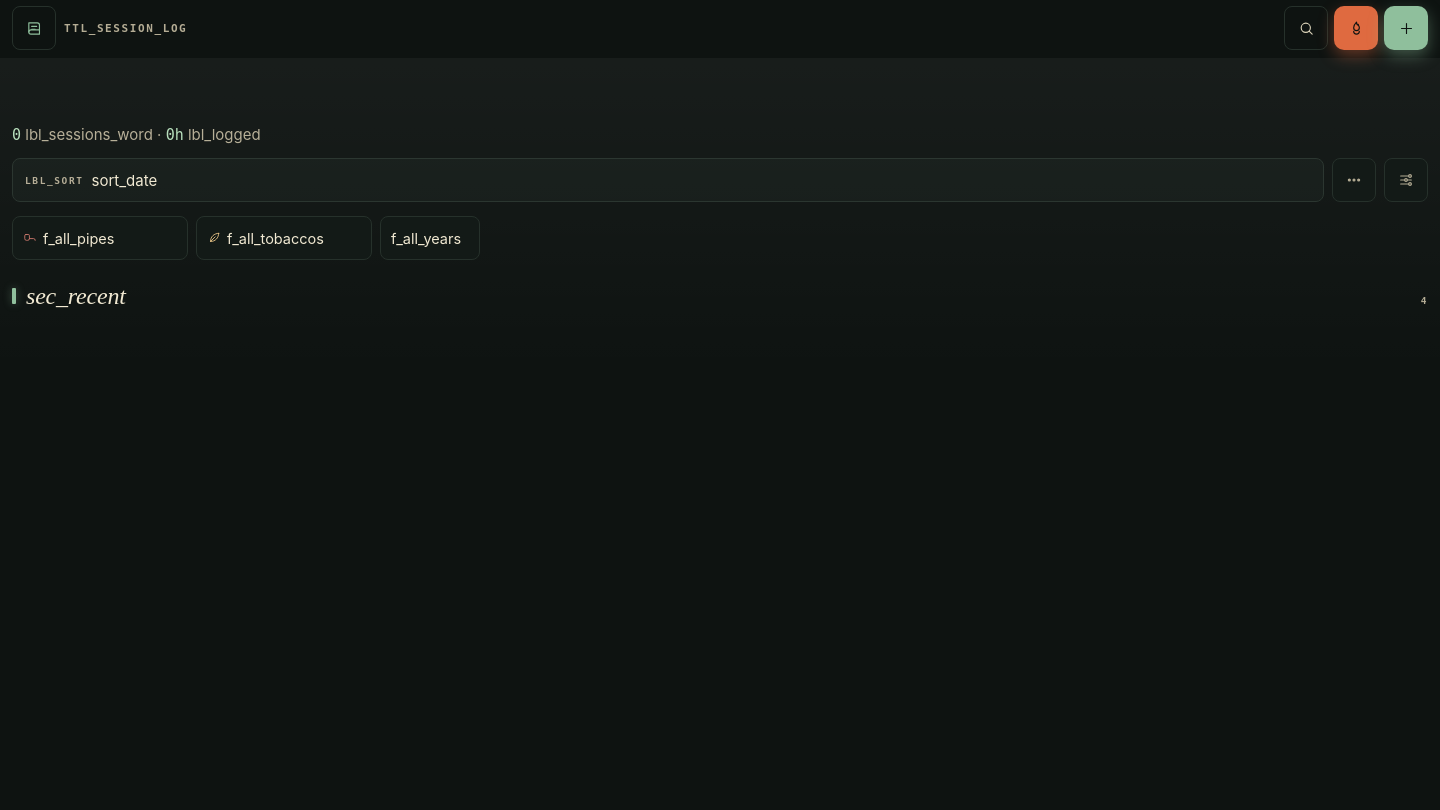
JournalView — pipe / tobacco / year filters › shows the 'no match' empty state with a reset button when filters yield zero sessions
Select "Halvorsen — Sherlock" in the dropdown named "aria_filter_by_pipe". click: (110, 238)
box: [43,217,177,259]
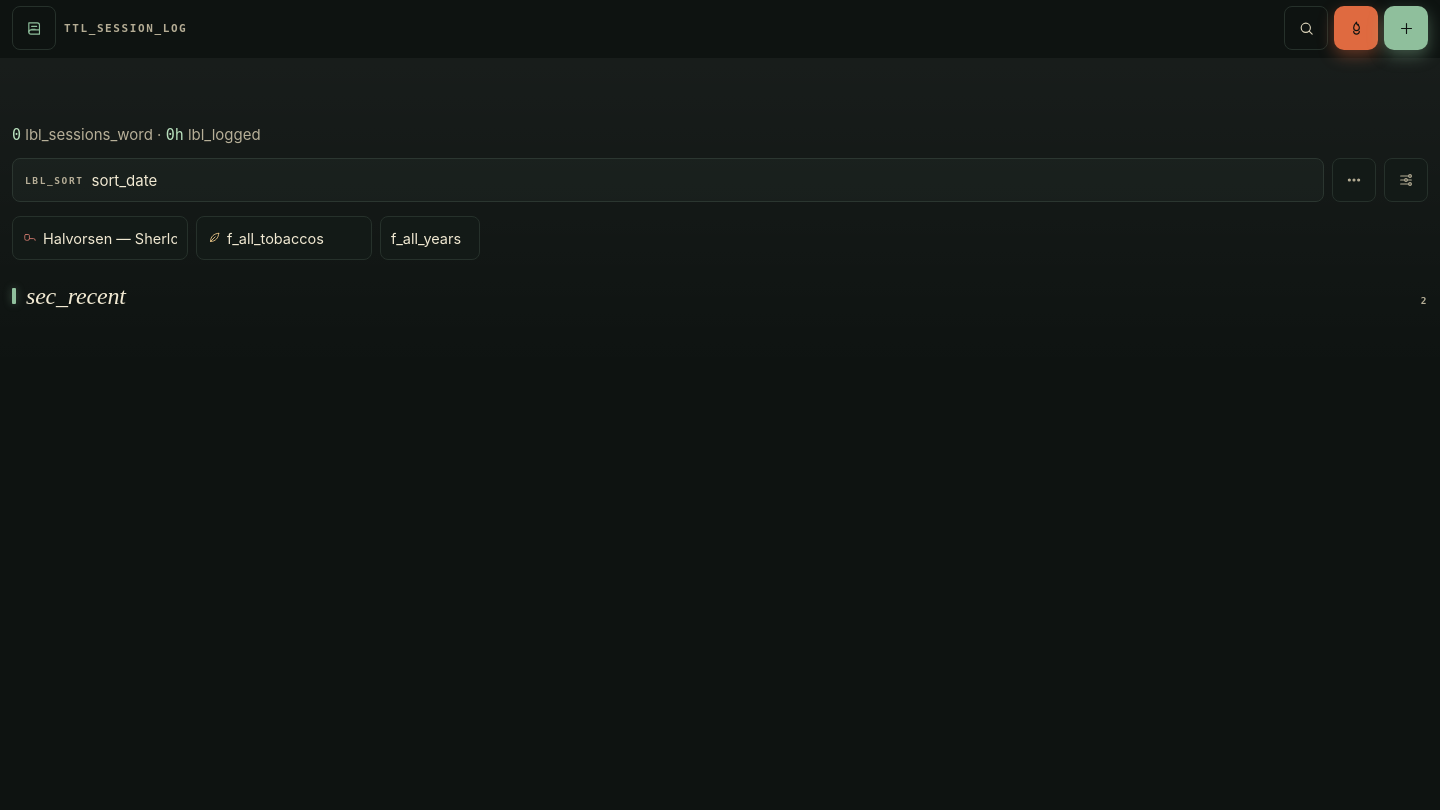
Select "Pellworm — HH Vintage Syrian" in the dropdown named "aria_filter_by_tobacco". click: (294, 238)
box: [227,217,361,259]
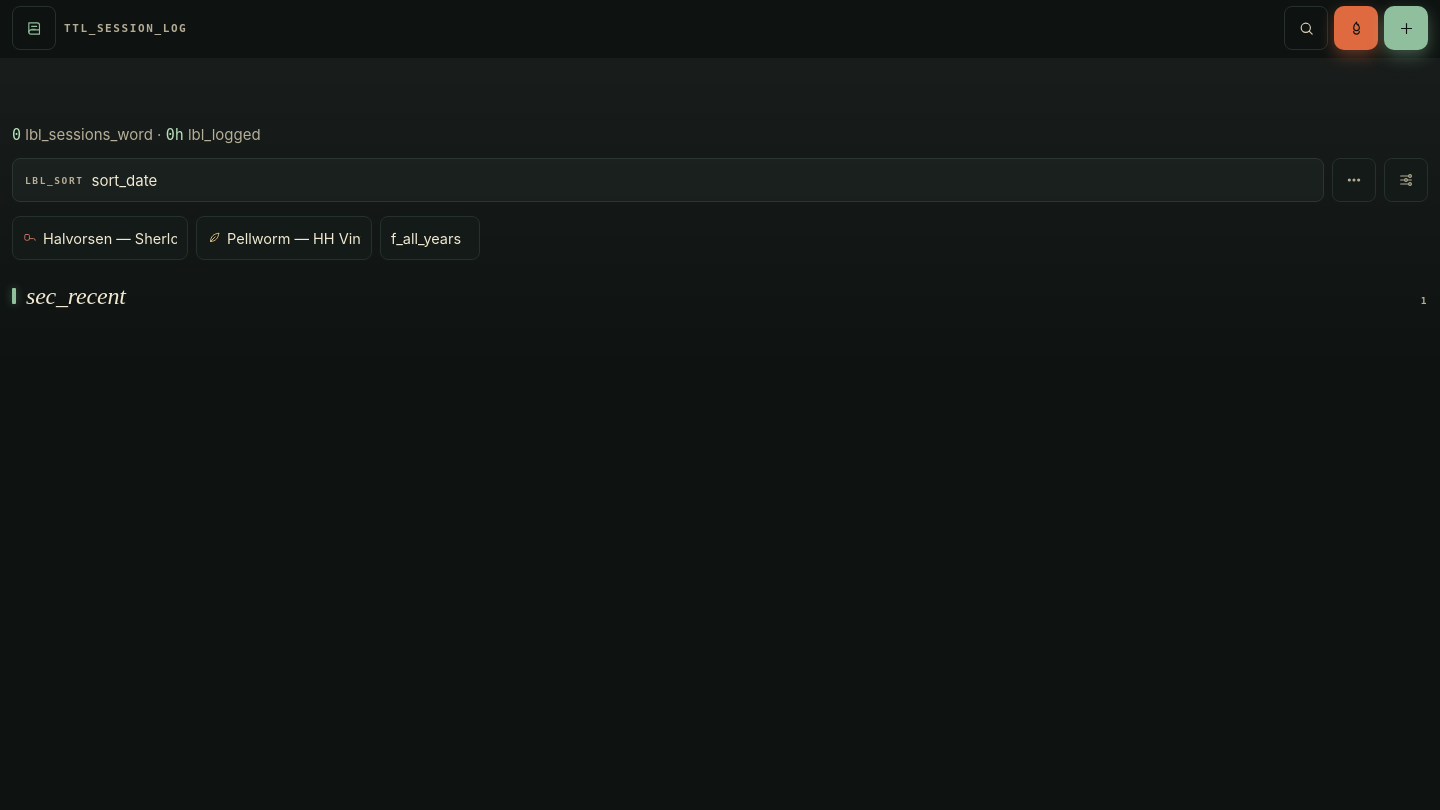
Select "2024" in the dropdown named "aria_filter_by_year". click: (430, 238)
box: [391,217,469,259]
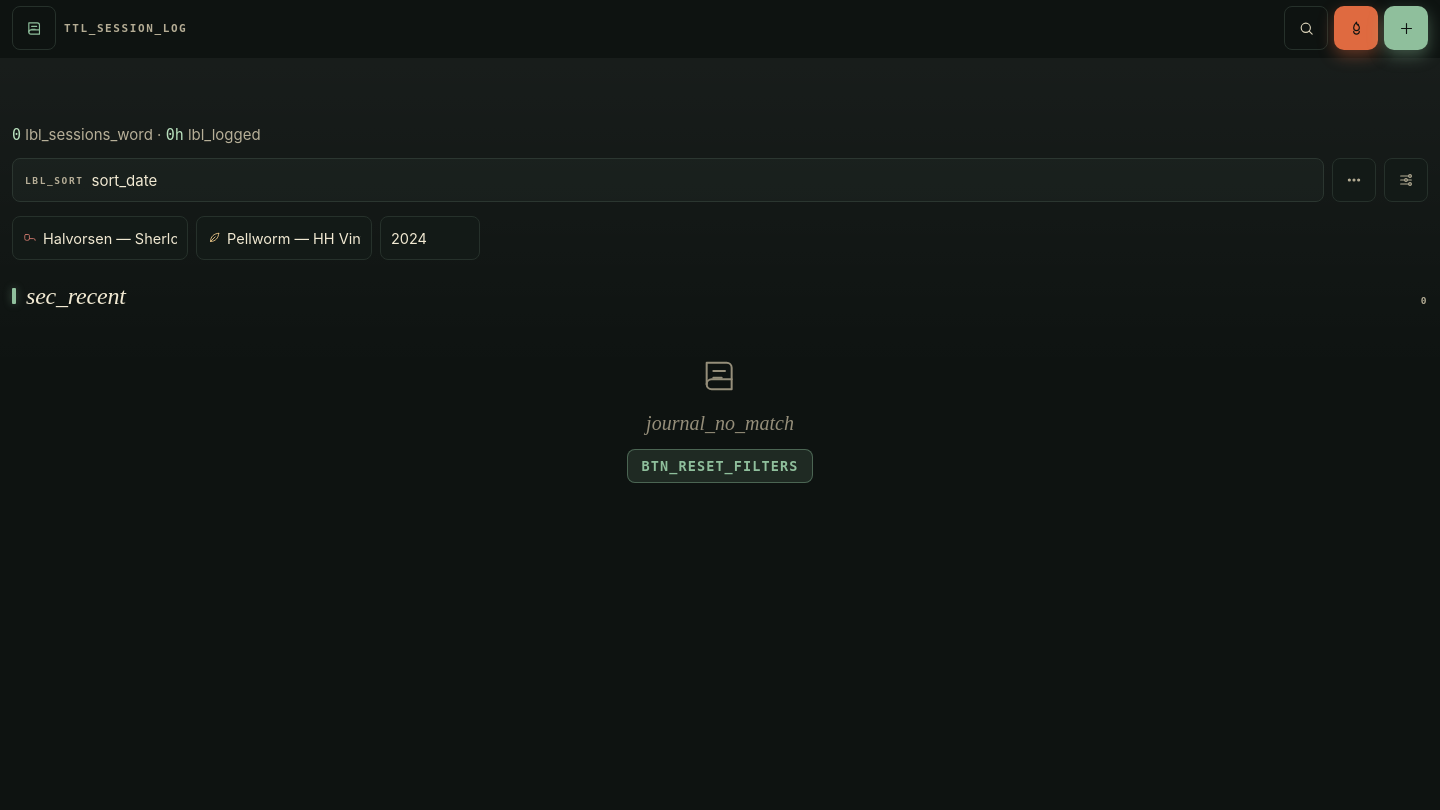
Expected: the text "journal_no_match" is shown, [646,412,794,434]
Expected: the button "btn_reset_filters" is shown
Click the button "btn_reset_filters". click: (720, 466)
box: [627,449,814,483]
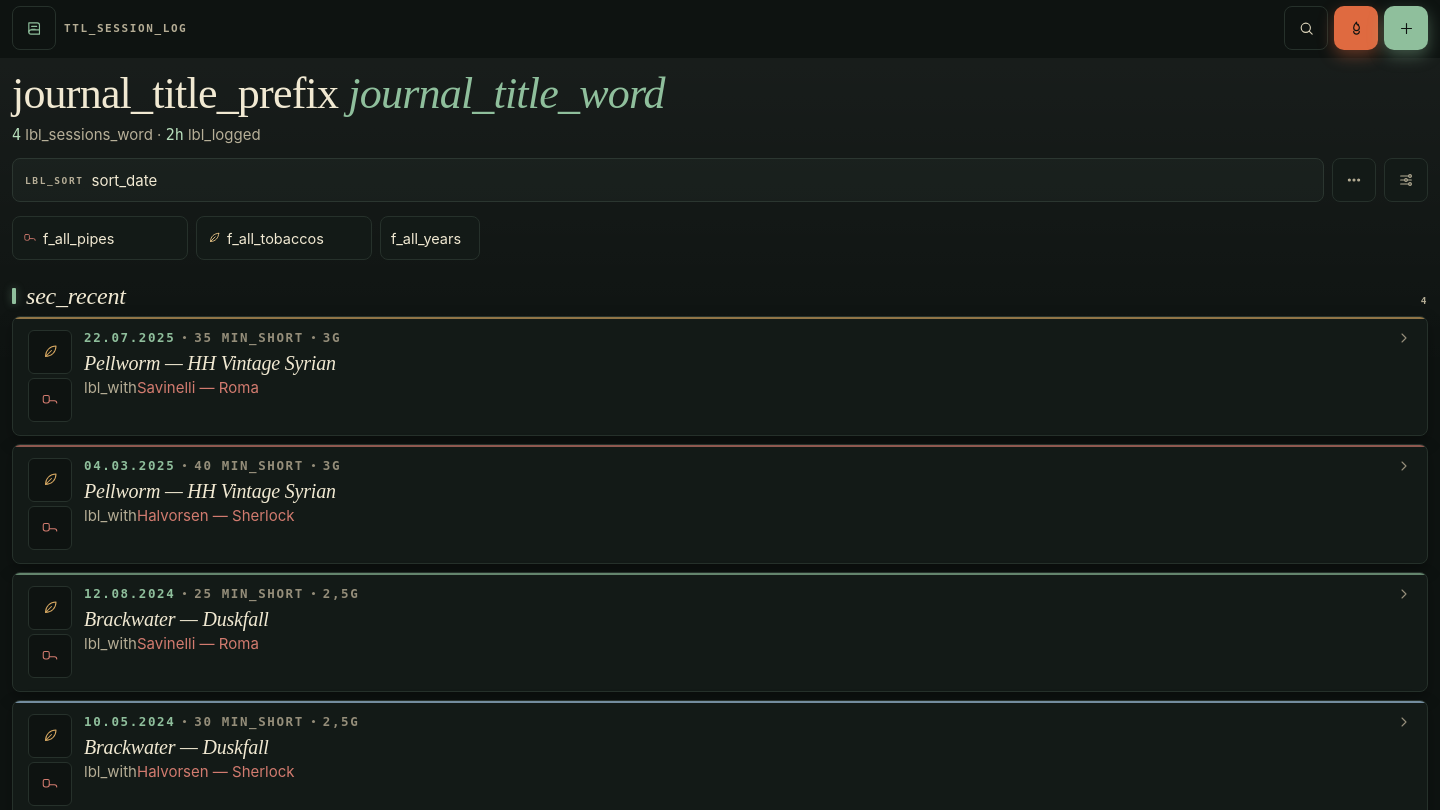
Expected: the text "journal_no_match" is gone
